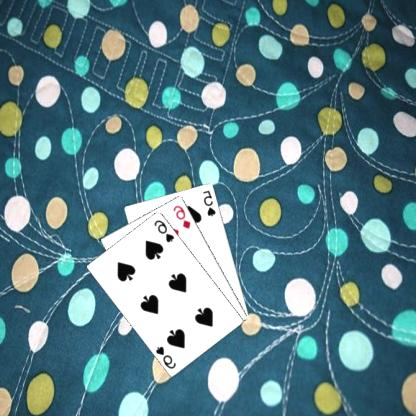5S: (202, 187, 219, 217)
6D: (172, 202, 194, 230)
6S: (154, 343, 180, 370), (153, 217, 177, 243)
